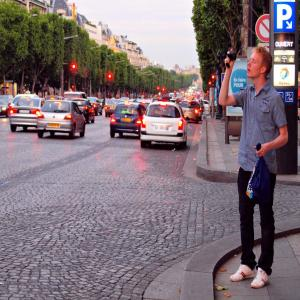Vehicle-registration-plate: (155, 125, 169, 130), (49, 124, 60, 128), (20, 110, 30, 114), (122, 119, 132, 122)
